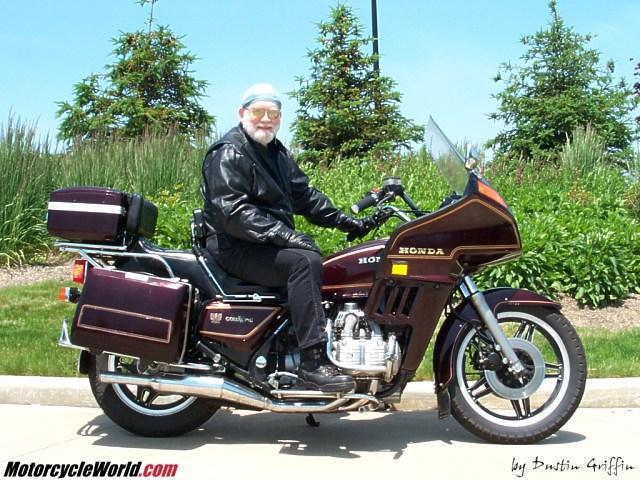motorcycle: (28, 115, 590, 447)
